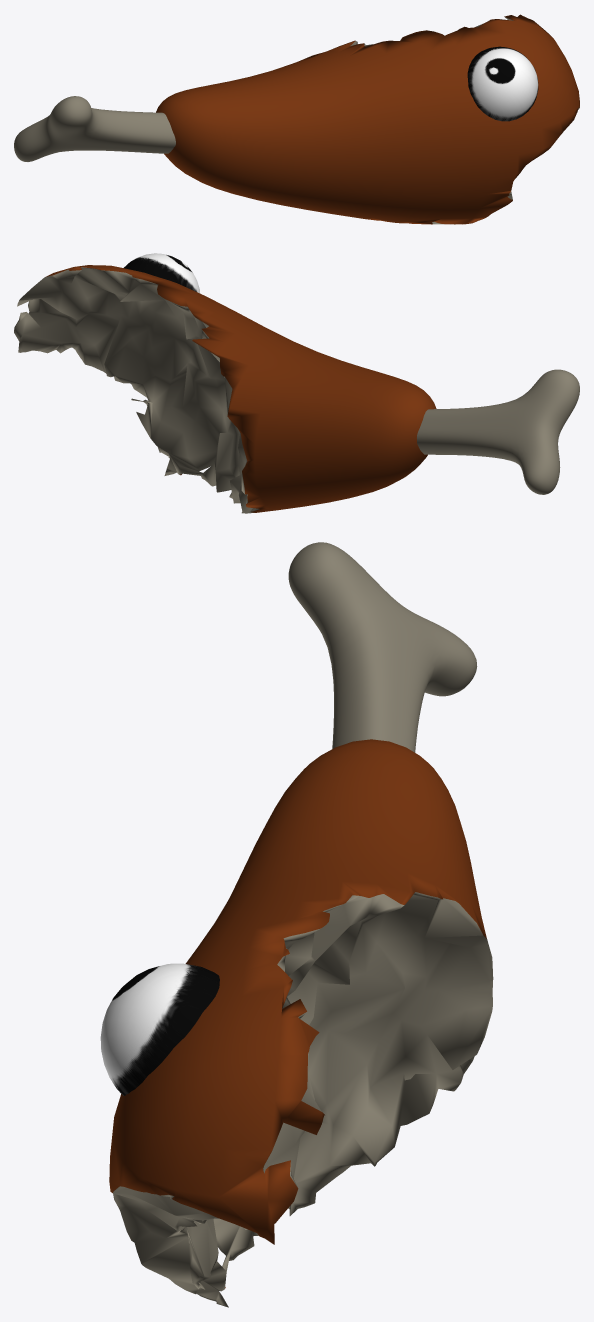
Rendered from Wing_zerstört.fbx.
3 views of the same model, one above another, from view 1: azimuth 30°, elevation 25°; view 2: azimuth 150°, elevation 25°; view 3: azimuth 270°, elevation 25° (orthographic). The views are drawn at different scales.
Parts seen in each view (by area): view 1: Cube.001, Sphere.006; view 2: Cube.001, Sphere.006; view 3: Cube.001, Sphere.006.
Boxes of the visible parts, bbox=[...] form: Cube.001: bbox=[14, 14, 579, 224]; Sphere.006: bbox=[467, 46, 538, 121]; Cube.001: bbox=[14, 265, 579, 513]; Sphere.006: bbox=[124, 253, 200, 293]; Cube.001: bbox=[109, 542, 493, 1307]; Sphere.006: bbox=[100, 963, 219, 1095].
Size of the model in its own units: 323 by 120 by 107.
